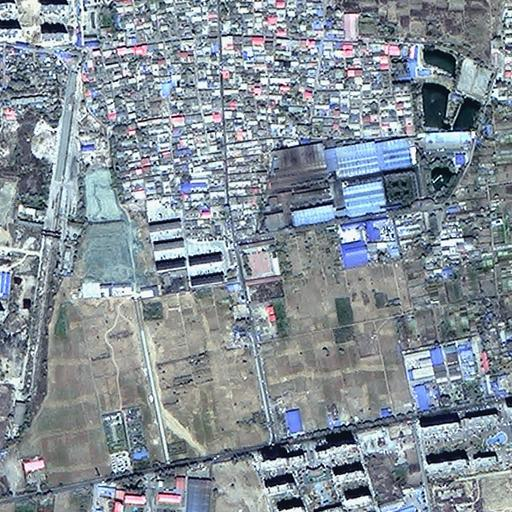school: (236, 234, 284, 287)
